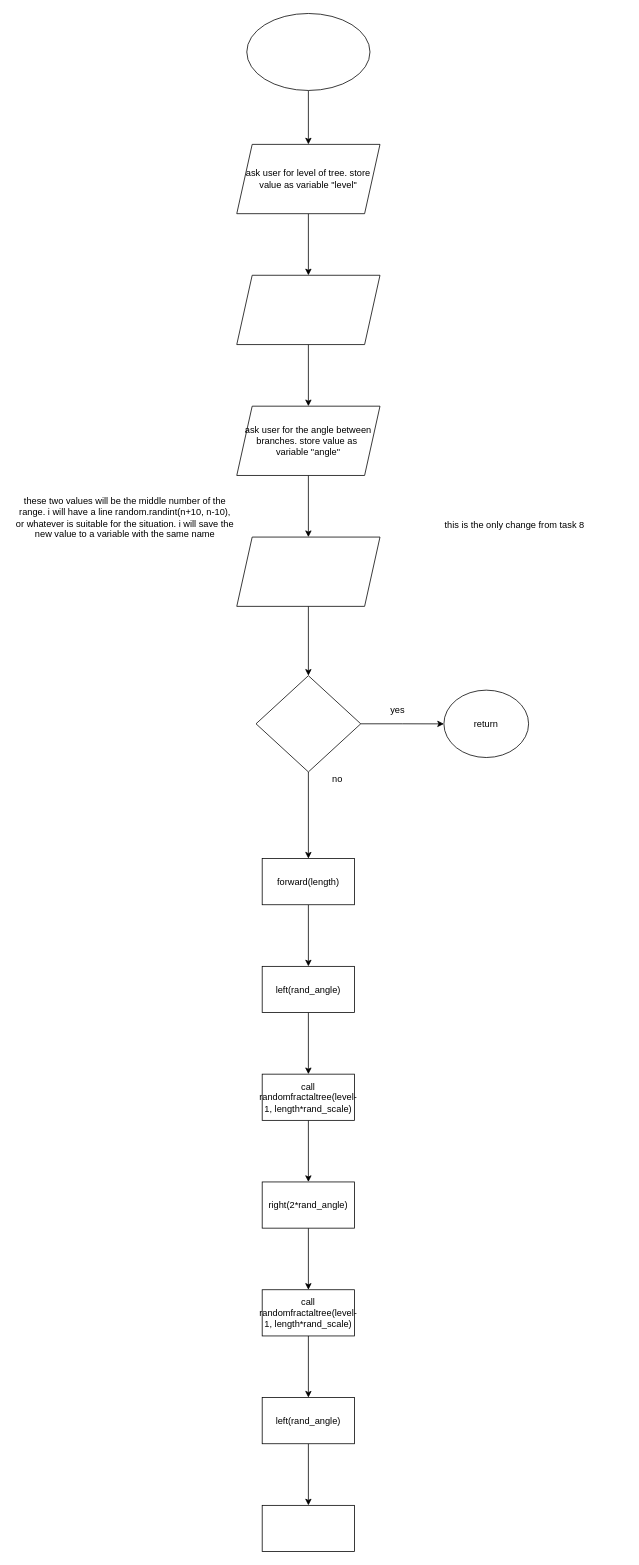
The diagram is 639 pixels wide and 1565 high, and some of its shapes have lost their labels. The shapes that lost their labels are listed below. From the top down, each one's box as (x1, y1, x2, y2) in pixels, then its label:
(246, 13, 370, 90): Start Program
(236, 275, 380, 345): ask user for the length of the trunk. store value as variable "length"
(236, 536, 380, 606): ask user for the scale by which the trunk go down by. store variable as "scale"
(255, 675, 361, 772): is level == 0?
(261, 1505, 355, 1552): backward(length)
